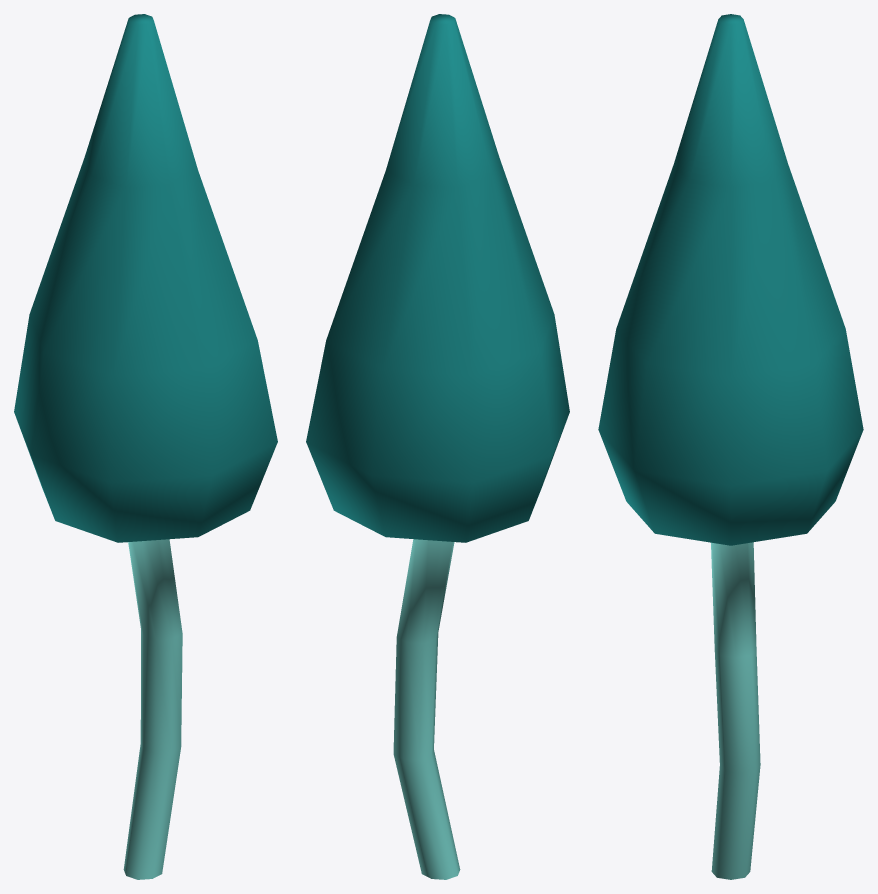
The model's file is Mashroom_25.fbx.
3 views of the same model, side by side, from view 1: azimuth 30°, elevation 25°; view 2: azimuth 150°, elevation 25°; view 3: azimuth 270°, elevation 25° (orthographic).
Parts seen in each view (by area): view 1: Mashroom_25; view 2: Mashroom_25; view 3: Mashroom_25.
Boxes of the visible parts, x1=… form: Mashroom_25: x1=14, y1=14, x2=277, y2=879; Mashroom_25: x1=306, y1=14, x2=569, y2=879; Mashroom_25: x1=598, y1=14, x2=863, y2=879.
Size of the model in its own units: 14.66 by 51.95 by 14.66.
